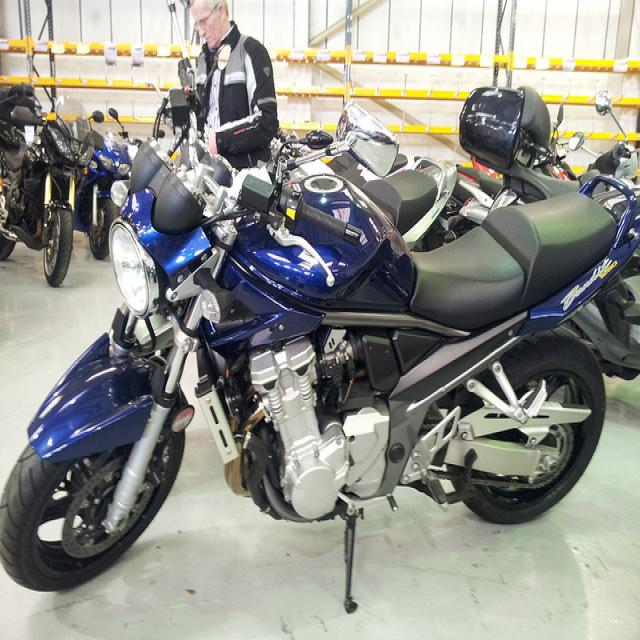motor: (0, 144, 640, 600), (79, 144, 458, 264), (1, 91, 109, 291), (98, 108, 143, 219), (577, 140, 640, 188)
